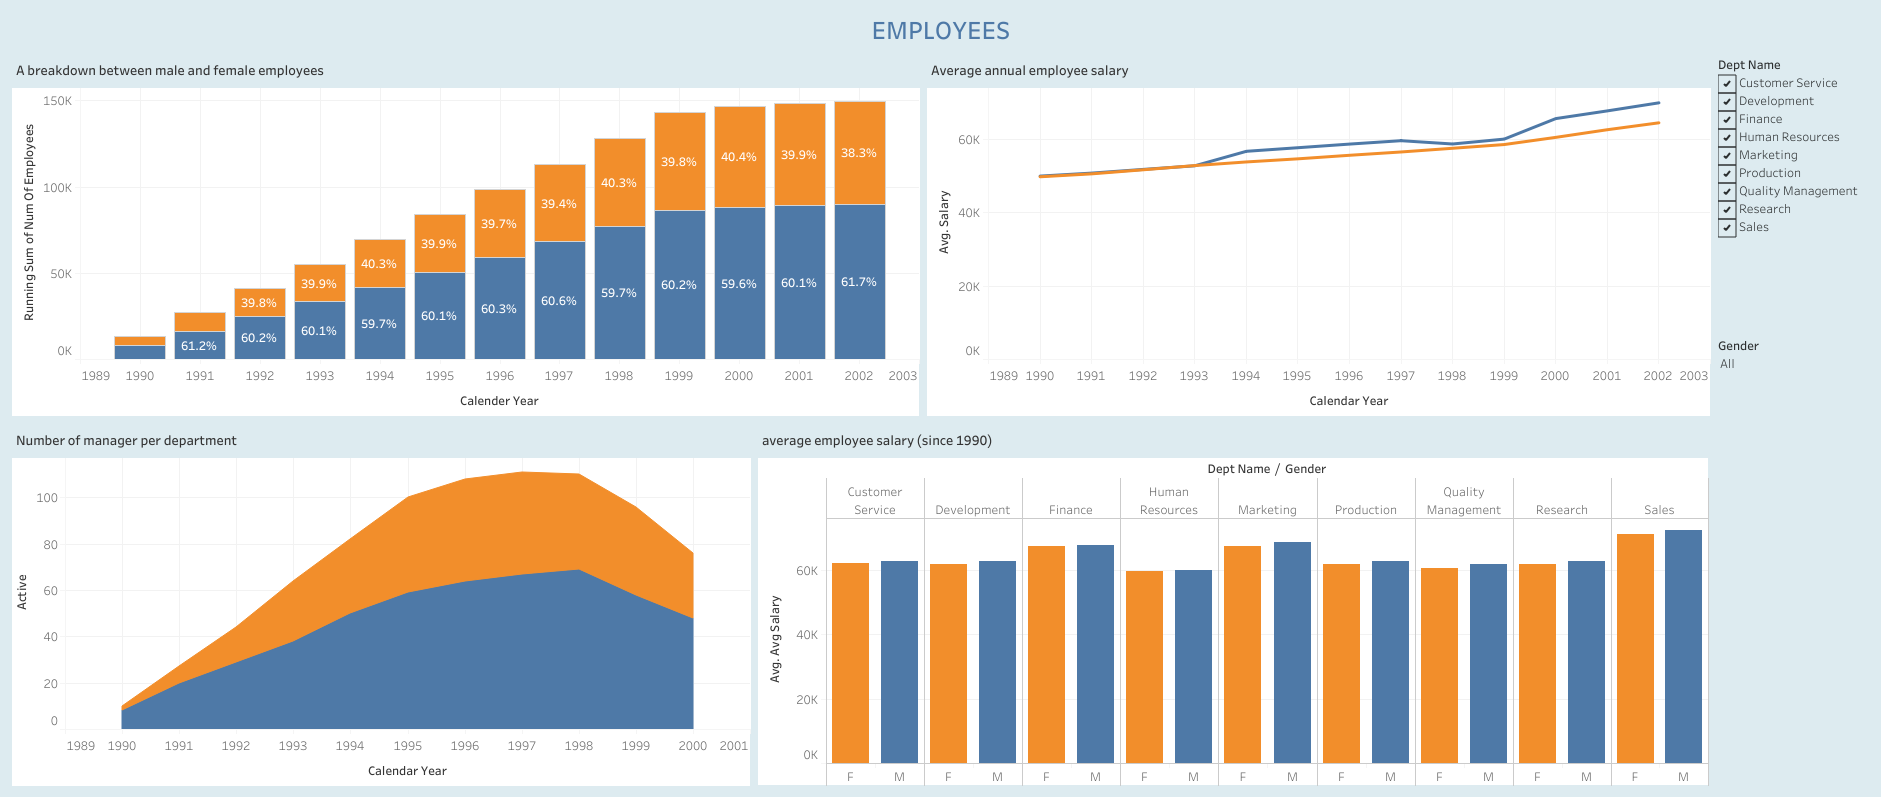

The dashboard page shown, as its layout file describes it:
{"tool":"tableau","page":{"name":"Dashboard 1","canvas":[1000,1000],"units":"permille","ordinal":0},"visuals":[{"type":"title","box":[4.7,8.8,990.6,45.4]},{"type":"worksheet","title":"chart 1","mark":"Bar","rows":["num_of_employees"],"cols":["calender_year"],"box":[4.7,54.2,481,468.5]},{"type":"worksheet","title":"chart3","mark":"Automatic","rows":["salary"],"cols":["calendar_year"],"box":[485.7,54.2,416,468.5]},{"type":"filter","title":"chart3","param":"[federated.1v881eb1xljisi1enlnis1deqwjv].[none:dept_name:nk]","box":[901.7,54.2,93.6,310.8]},{"type":"filter","title":"chart3","param":"[federated.1v881eb1xljisi1enlnis1deqwjv].[none:gender:nk]","box":[901.7,365,93.6,98.5]},{"type":"worksheet","title":"chart2","mark":"Area","rows":["active"],"cols":["calendar_year"],"box":[4.7,522.7,392,468.5]},{"type":"worksheet","title":"chart4","mark":"Bar","rows":["avg_salary"],"cols":["dept_name","gender"],"box":[396.7,522.7,505,468.5]}]}

Visuals, with their boxes on the dashboard's canvas, which has no fixed pixel size, in thousandths of its width and height (x1, y1, x2, y2). These are canvas units, not pixel positions in the 1881x797 screenshot, which may show the page scaled, cropped or inside an application window:
title: x1=5, y1=9, x2=995, y2=54
"chart 1" worksheet (Bar marks): x1=5, y1=54, x2=486, y2=523
"chart3" worksheet: x1=486, y1=54, x2=902, y2=523
"chart3" filter: x1=902, y1=54, x2=995, y2=365
"chart3" filter: x1=902, y1=365, x2=995, y2=464
"chart2" worksheet (Area marks): x1=5, y1=523, x2=397, y2=991
"chart4" worksheet (Bar marks): x1=397, y1=523, x2=902, y2=991
